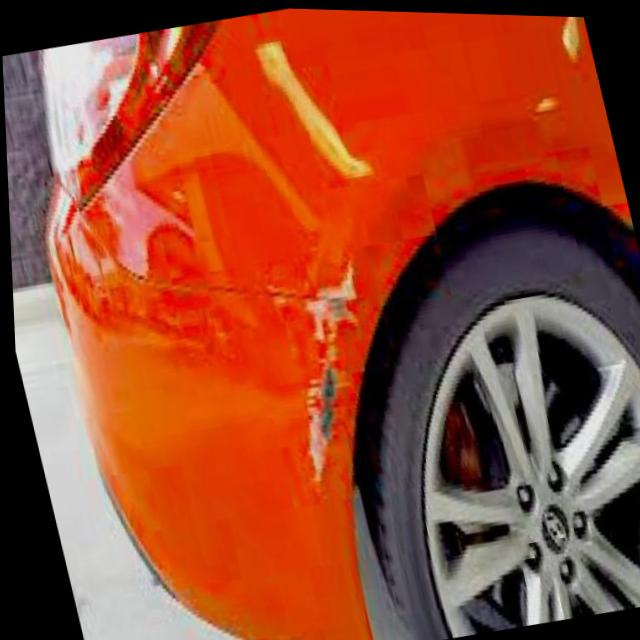Car-Damage: (263, 260, 398, 493)
